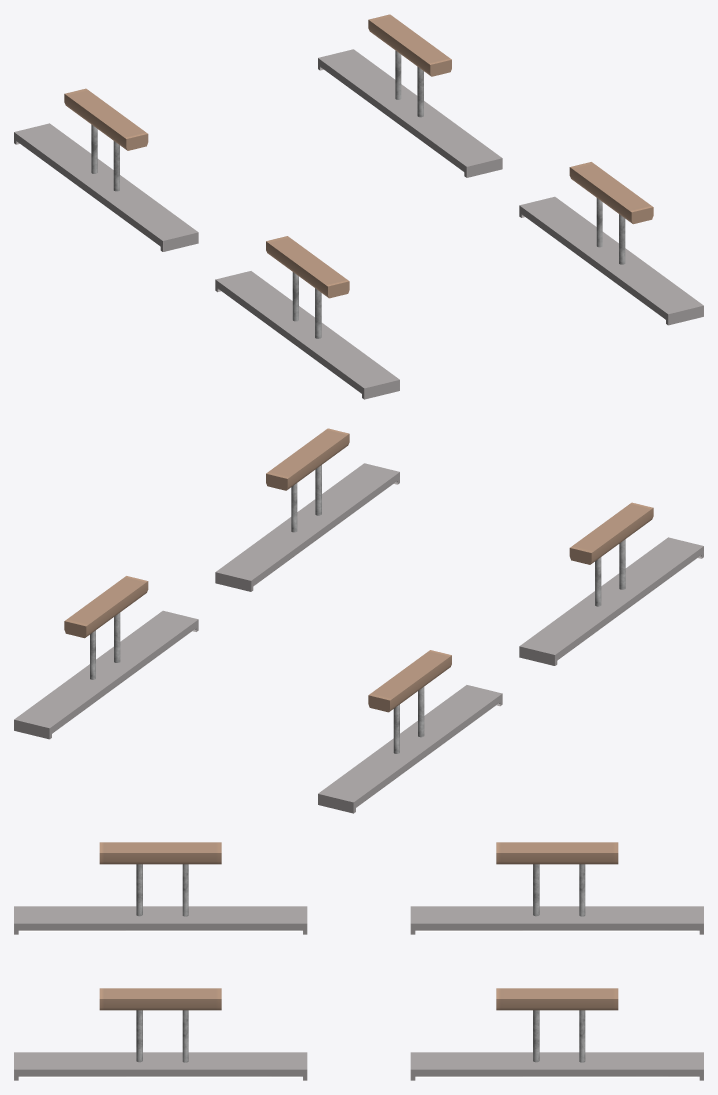
Rendered from lamparas.glb.
3 renders of one model, top to bottom at view 1: azimuth 30°, elevation 25°; view 2: azimuth 150°, elevation 25°; view 3: azimuth 270°, elevation 25°, orthographic.
Parts seen in each view (by area): view 1: polySurface265, polySurface266, polySurface267, polySurface264; view 2: polySurface264, polySurface266, polySurface265, polySurface267; view 3: polySurface267, polySurface265, polySurface266, polySurface264.
Part boxes in pixels (box(x1,y1,x2,y2)): polySurface265: box(14, 88, 198, 251); polySurface266: box(519, 162, 703, 325); polySurface267: box(318, 14, 502, 177); polySurface264: box(215, 236, 399, 399); polySurface264: box(519, 502, 703, 665); polySurface266: box(215, 428, 399, 591); polySurface265: box(318, 650, 502, 813); polySurface267: box(14, 576, 198, 739); polySurface267: box(410, 988, 703, 1080); polySurface265: box(410, 842, 703, 934); polySurface266: box(14, 988, 307, 1080); polySurface264: box(14, 842, 307, 934).
Bounding box in the file's own units: 33.45 × 7.59 × 59.76.
Materials: 1 (1 with a texture image).
